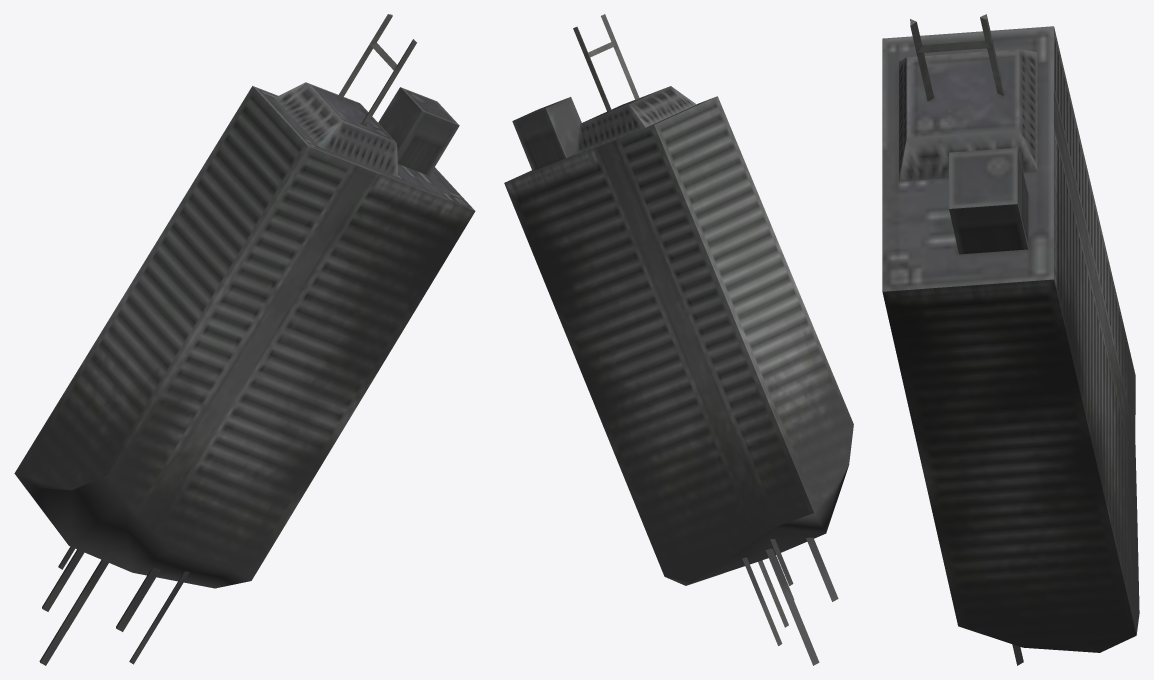
The model's file is skyBuildingAAC_pos_grp (15).fbx.
3 renders of one model, left to right at view 1: azimuth 30°, elevation 25°; view 2: azimuth 150°, elevation 25°; view 3: azimuth 270°, elevation 25°, orthographic. The views are drawn at different scales.
Visible parts, largest first — view 1: skyBuildingAAC_geo; view 2: skyBuildingAAC_geo; view 3: skyBuildingAAC_geo.
Part boxes in pixels (x1,y1,x2,y2): skyBuildingAAC_geo: (14,14,475,665); skyBuildingAAC_geo: (504,14,853,665); skyBuildingAAC_geo: (882,14,1139,665).
Bounding box in the file's own units: 8.28 × 12.66 × 3.59.
1 material, 1 textured.
